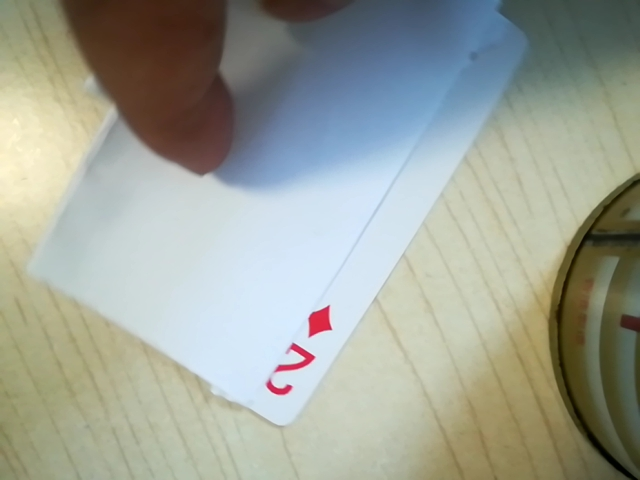fk 2: (250, 300, 339, 403)
